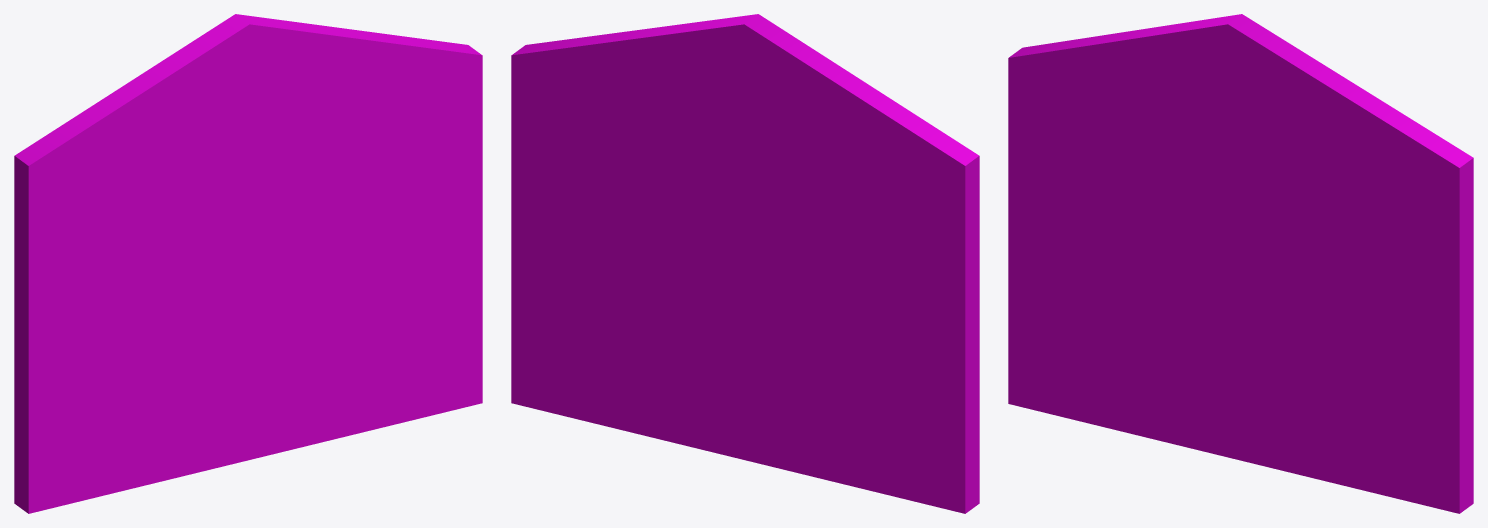
File: HT_02_Wall_04_Collider.fbx
The picture shows the model from 3 angles, left to right: view 1: azimuth 30°, elevation 25°; view 2: azimuth 150°, elevation 25°; view 3: azimuth 330°, elevation 25°; orthographic projection.
Parts seen in each view (by area): view 1: HT_02_Wall_04_Collider; view 2: HT_02_Wall_04_Collider; view 3: HT_02_Wall_04_Collider.
Boxes of the visible parts, bbox=[...] form: HT_02_Wall_04_Collider: bbox=[14, 14, 482, 513]; HT_02_Wall_04_Collider: bbox=[511, 14, 979, 513]; HT_02_Wall_04_Collider: bbox=[1008, 14, 1473, 513].
Size of the model in its own units: 414 by 380 by 22.39.
